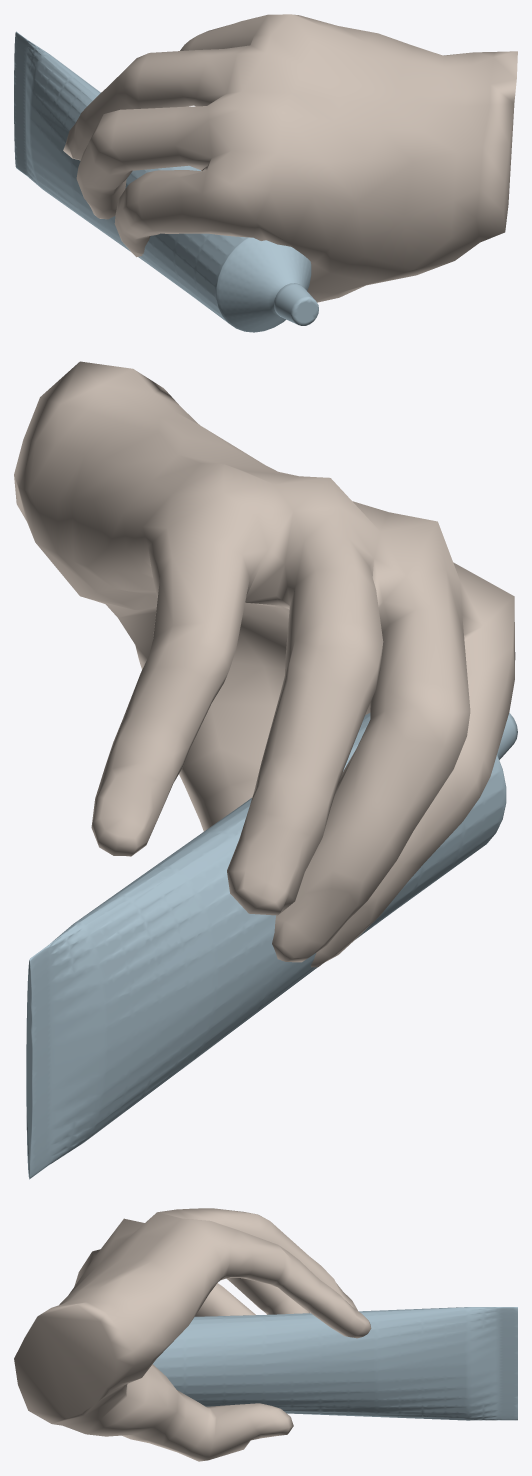
File: select_grasp.glb
The picture shows the model from 3 angles, top to bottom: view 1: azimuth 30°, elevation 25°; view 2: azimuth 150°, elevation 25°; view 3: azimuth 270°, elevation 25°; orthographic projection. The views are drawn at different scales.
Bounding box in the file's own units: 0.1397 × 0.1148 × 0.2125.
